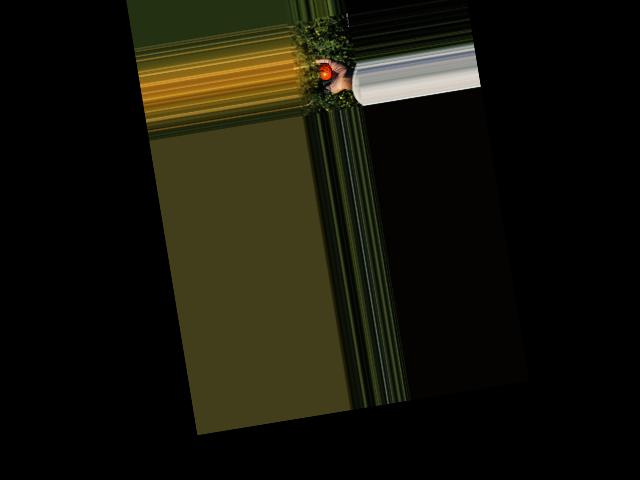tomato: (316, 62, 333, 80)
